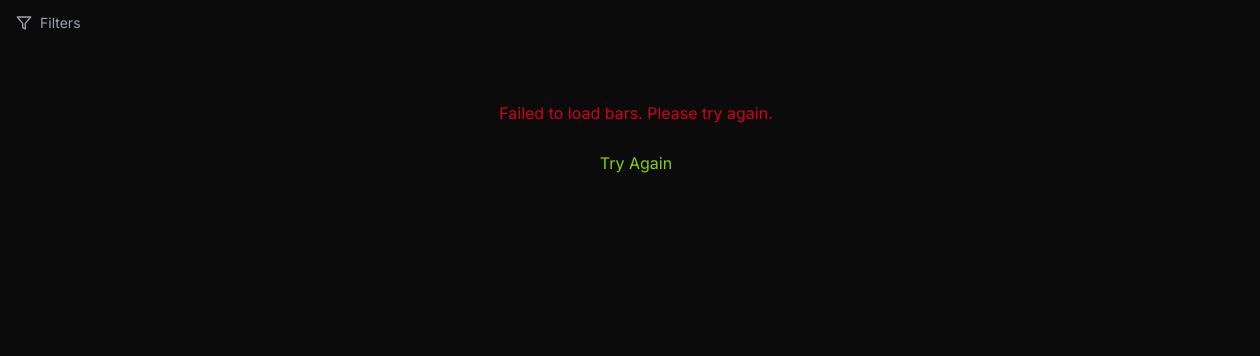
Test: venue list loading and retry flows › retries bars list after initial failure
This screenshot has width=1260, height=356.
Expected: the text "Failed to load bars. Please try again." is shown, [499, 103, 773, 123]
Click the button "Try Again" at {"x": 636, "y": 163}, box [584, 141, 688, 185]
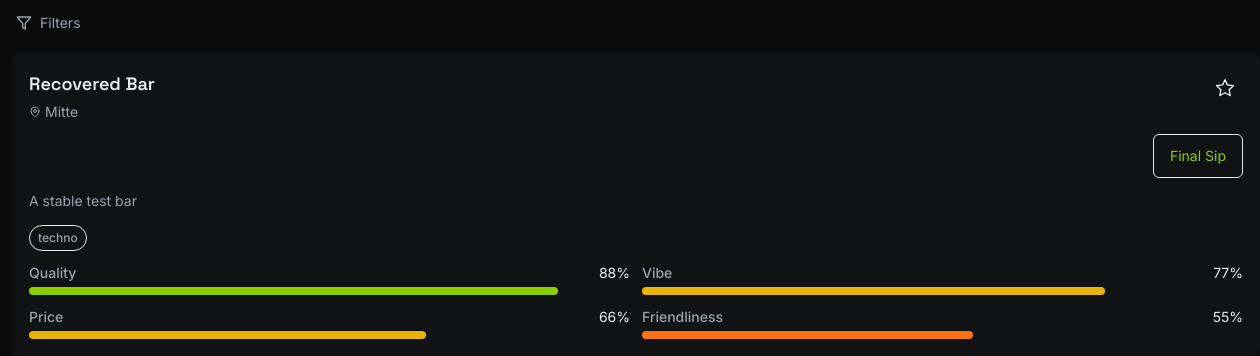
Now the heading "Recovered Bar" is shown, box [29, 70, 155, 98]
